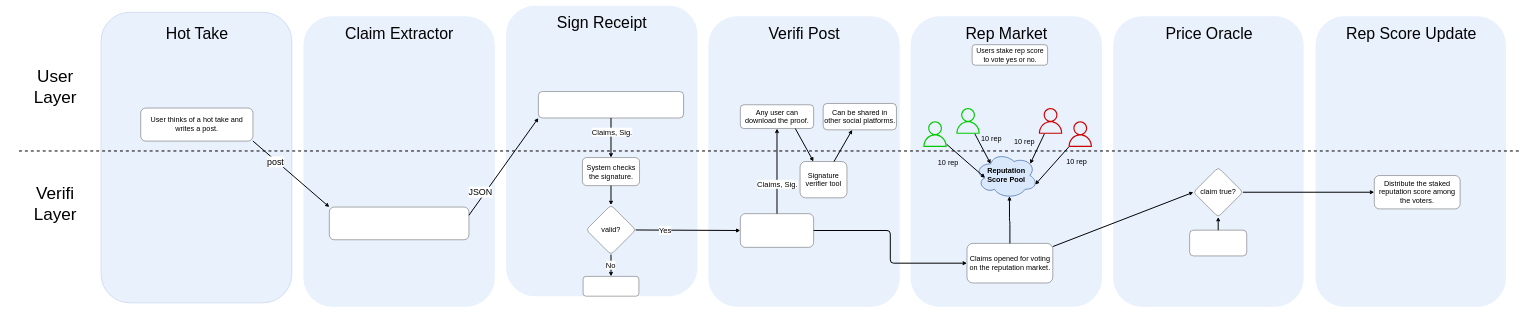
Some shapes in this 1527 by 312 pixel diagram are drawn without their labels. The shapes that lost their labels are listed below. From the top down, each one's centre as x and y in pixels, then its label:
point 611,104: User signs the post and the claims with their wallet.
point 399,223: Claim Extractor extracts the claims in a structured format.
point 777,230: Signed Post is shared on the platform.
point 1218,243: Asset Observer
point 611,286: Post is denied.
